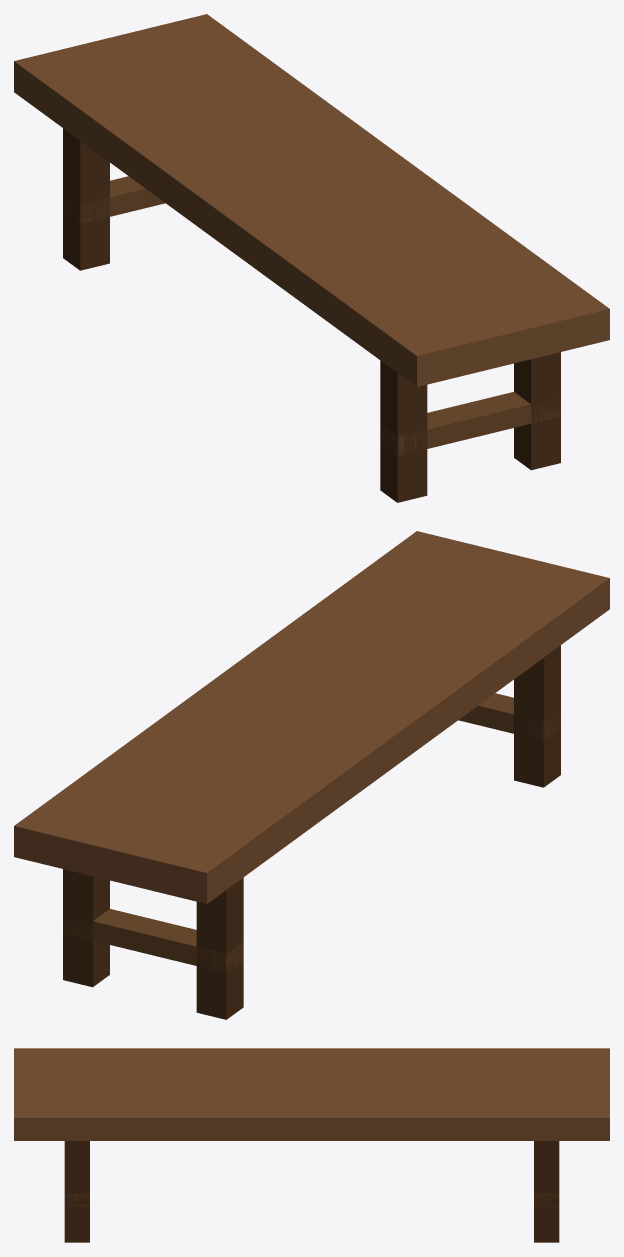
File: bench.glb
3 renders of one model, top to bottom at view 1: azimuth 30°, elevation 25°; view 2: azimuth 150°, elevation 25°; view 3: azimuth 270°, elevation 25°, orthographic. The views are drawn at different scales.
Parts seen in each view (by area): view 1: bench; view 2: bench; view 3: bench.
Boxes of the visible parts, x1,y1,x2,y2 form: bench: [14, 14, 609, 502]; bench: [14, 531, 609, 1019]; bench: [14, 1048, 609, 1242].
Bounding box in the file's own units: 0.26 × 0.226 × 0.94.
